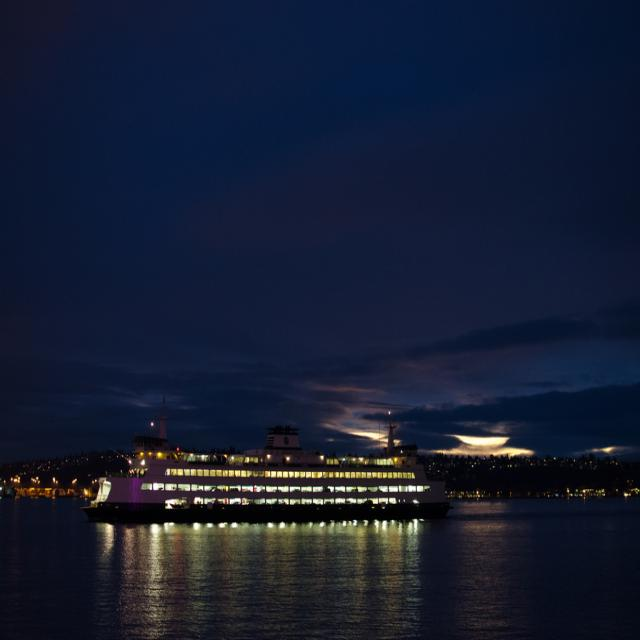Boat: (88, 466, 432, 512)
